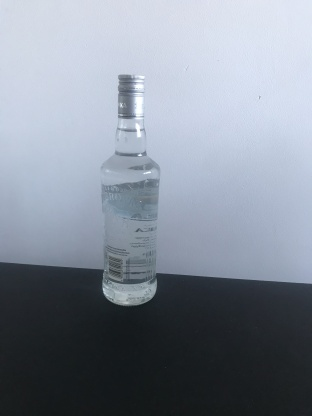nakretka: (116, 71, 146, 122)
